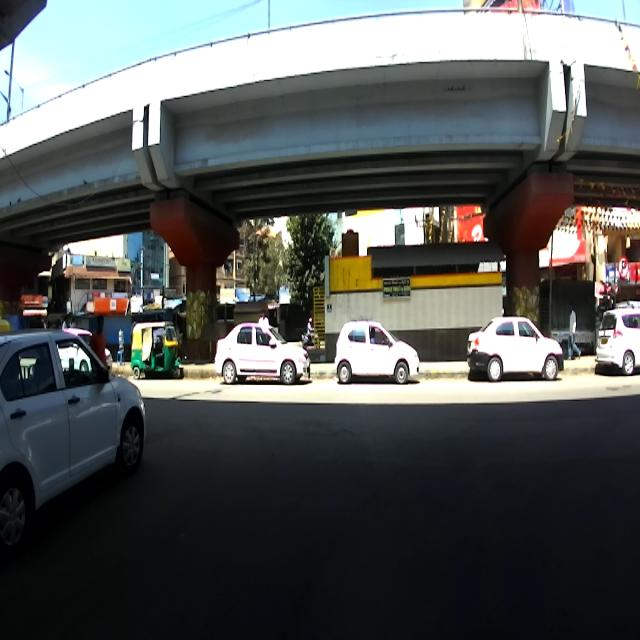car ahead at: (0, 322, 150, 528)
